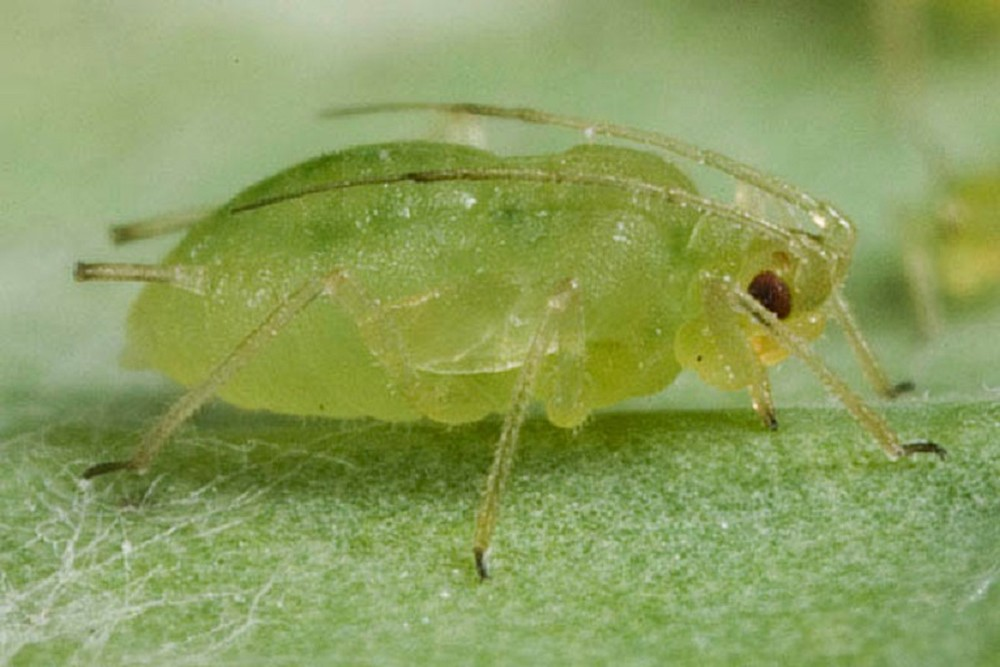Pulgon: (70, 74, 953, 586)
